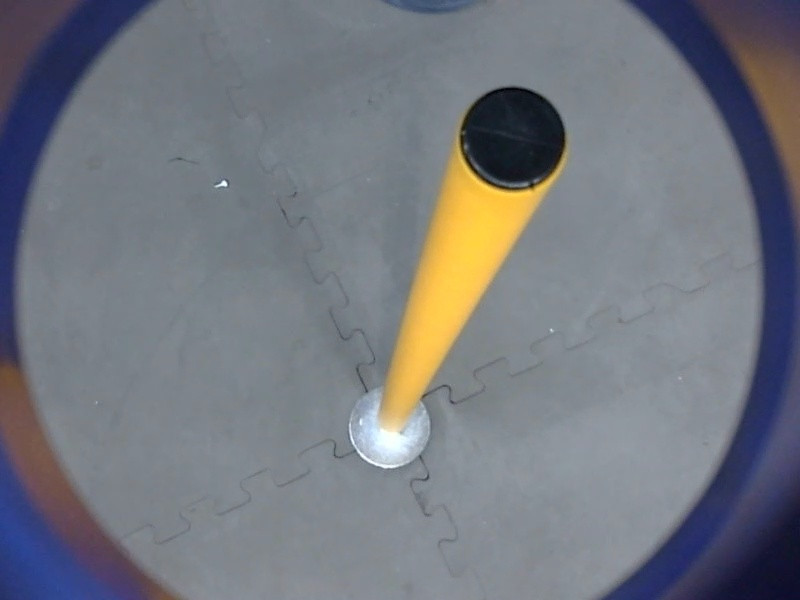tip: (450, 78, 573, 192)
